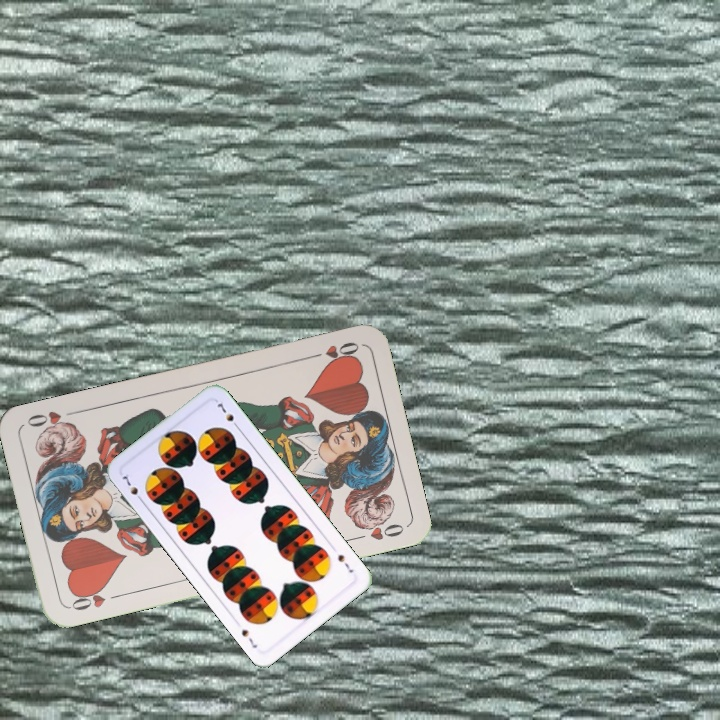HO: (66, 583, 124, 613), (304, 338, 362, 366)
S7: (117, 469, 146, 505), (334, 550, 356, 576)
